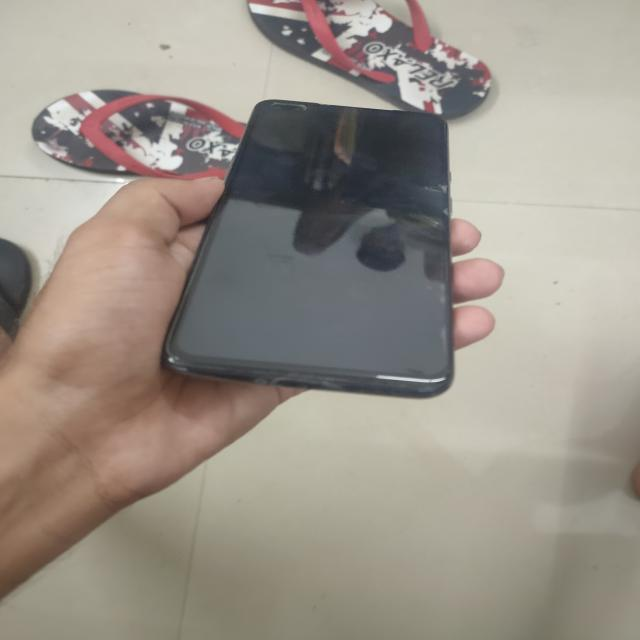Phone: (160, 96, 457, 401)
